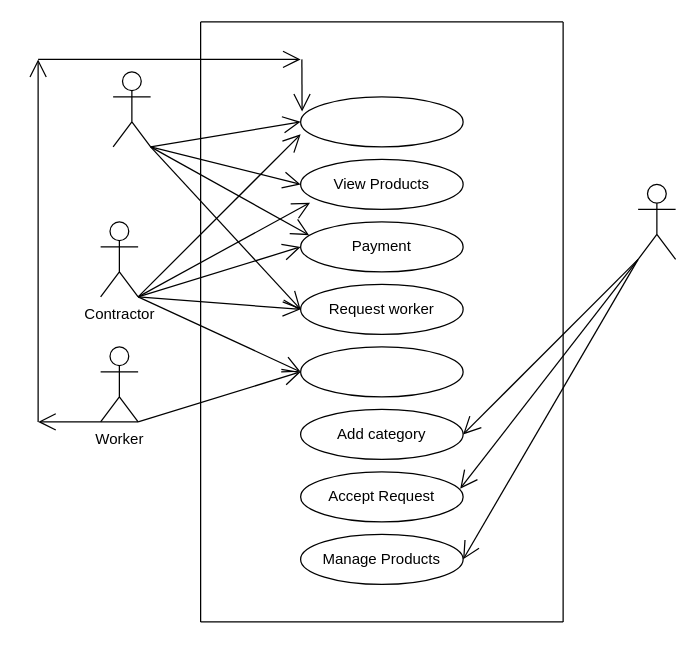
The diagram is 700 pixels wide and 645 high, and some of its shapes have lost their labels. The box of each missing label's shape, as (x1, y1, x2, y2) in pixels:
Accept work: (299, 346, 463, 397)
Admin: (637, 183, 676, 259)
Login: (299, 96, 463, 147)
User: (112, 71, 151, 147)
